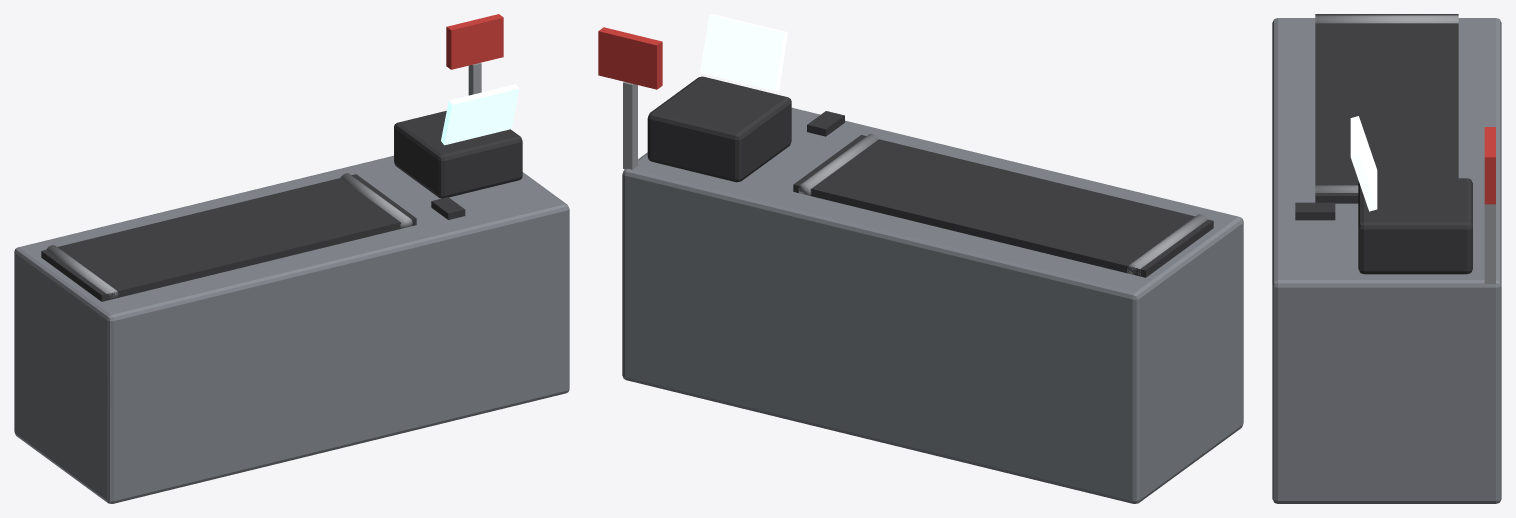
Rendered from checkout.glb.
The picture shows the model from 3 angles, left to right: view 1: azimuth 30°, elevation 25°; view 2: azimuth 150°, elevation 25°; view 3: azimuth 270°, elevation 25°; orthographic projection. The views are drawn at different scales.
Parts seen in each view (by area): view 1: checkout; view 2: checkout; view 3: checkout.
Boxes of the visible parts, box(x1,y1,x2,y2) form: checkout: box(14, 14, 569, 503); checkout: box(598, 14, 1243, 503); checkout: box(1272, 14, 1501, 503).
Bounding box in the file's own units: 2.31 × 1.39 × 0.8.
